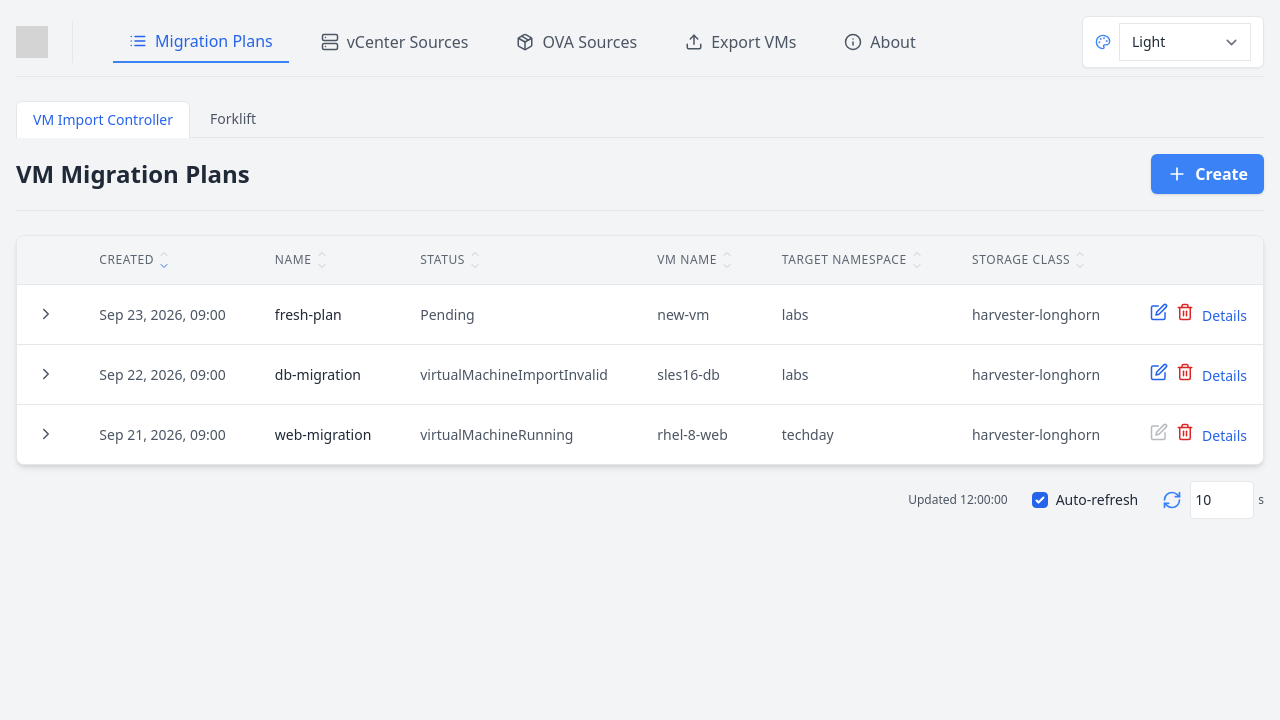
plans: Forklift subtab
Click the button "Forklift": (233, 119) x1=194 y1=101 x2=272 y2=137
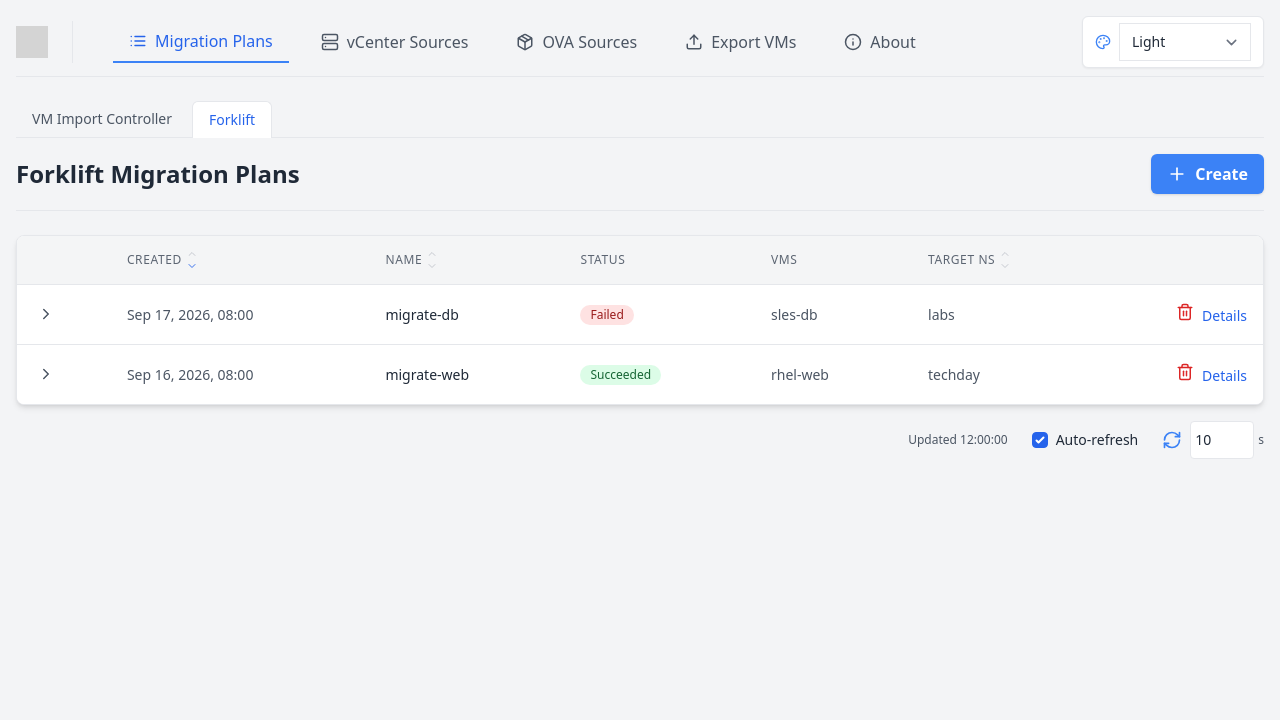
Result: the text "migrate-web" is shown at x1=361 y1=344 x2=556 y2=404
